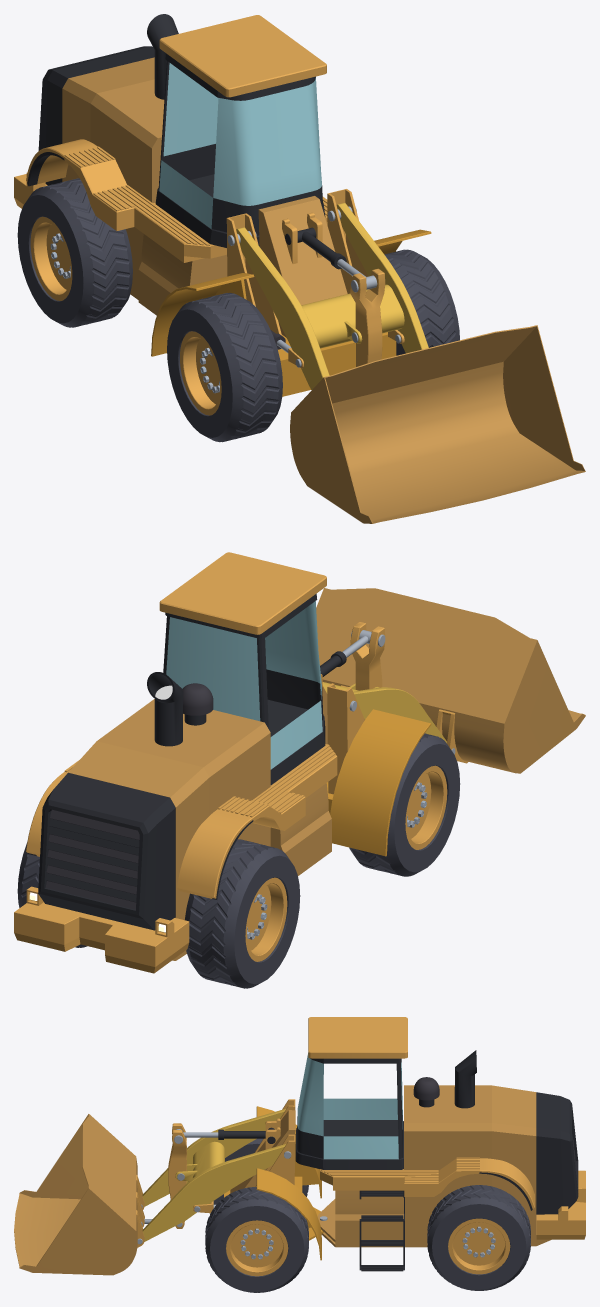
File: Wheel Loader V0.1.fbx
3 renders of one model, top to bottom at view 1: azimuth 30°, elevation 25°; view 2: azimuth 150°, elevation 25°; view 3: azimuth 270°, elevation 25°, orthographic. The views are drawn at different scales.
Parts seen in each view (by area): view 1: _Pala, Others, _Rueda Frontal, _Ruedas Traseras, Parent, Cube.010, Cube.009, Brazo, Cube.005, Cube.016, Cube.002, Cube.019 (+8 smaller); view 2: _Pala, Parent, Others, _Ruedas Traseras, Cube.019, Cube.009, Cube.006, Cube.010, _Rueda Frontal, Cube.018, Cube.020, Cube.002 (+7 smaller); view 3: _Pala, Parent, _Rueda Frontal, _Ruedas Traseras, Others, Brazo, Cube.019, Cube.009, Cube.010, Cube.002, Cube.021, Cube.006 (+10 smaller).
Part boxes in pixels (bbox=[...]): _Pala: bbox=[290, 325, 585, 523]; Others: bbox=[158, 61, 322, 235]; _Rueda Frontal: bbox=[167, 249, 459, 442]; _Ruedas Traseras: bbox=[17, 178, 132, 327]; Parent: bbox=[62, 57, 164, 299]; Cube.010: bbox=[159, 15, 326, 97]; Cube.009: bbox=[26, 139, 327, 262]; Brazo: bbox=[236, 203, 428, 389]; Cube.005: bbox=[258, 196, 347, 337]; Cube.016: bbox=[226, 189, 368, 335]; Cube.002: bbox=[138, 234, 227, 315]; Cube.019: bbox=[38, 46, 154, 185]; _Pala: bbox=[316, 588, 585, 773]; Parent: bbox=[68, 699, 270, 960]; Others: bbox=[163, 601, 323, 769]; _Ruedas Traseras: bbox=[17, 839, 300, 988]; Cube.019: bbox=[38, 773, 175, 930]; Cube.009: bbox=[26, 744, 337, 899]; Cube.006: bbox=[330, 709, 431, 856]; Cube.010: bbox=[159, 552, 326, 634]; _Rueda Frontal: bbox=[349, 733, 460, 876]; Cube.018: bbox=[14, 886, 189, 973]; Cube.020: bbox=[45, 809, 139, 909]; Cube.002: bbox=[270, 783, 331, 875]; _Pala: bbox=[14, 1114, 144, 1275]; Parent: bbox=[404, 1085, 551, 1247]; _Rueda Frontal: bbox=[205, 1138, 308, 1292]; _Ruedas Traseras: bbox=[427, 1185, 530, 1290]; Others: bbox=[297, 1053, 402, 1159]; Brazo: bbox=[142, 1108, 286, 1241]; Cube.019: bbox=[536, 1092, 578, 1214]; Cube.009: bbox=[320, 1157, 534, 1210]; Cube.010: bbox=[308, 1017, 407, 1058]; Cube.002: bbox=[317, 1190, 403, 1247]; Cube.021: bbox=[295, 1120, 403, 1169]; Cube.006: bbox=[256, 1106, 321, 1260].
Size of the model in its own units: 569 by 714 by 1672.
